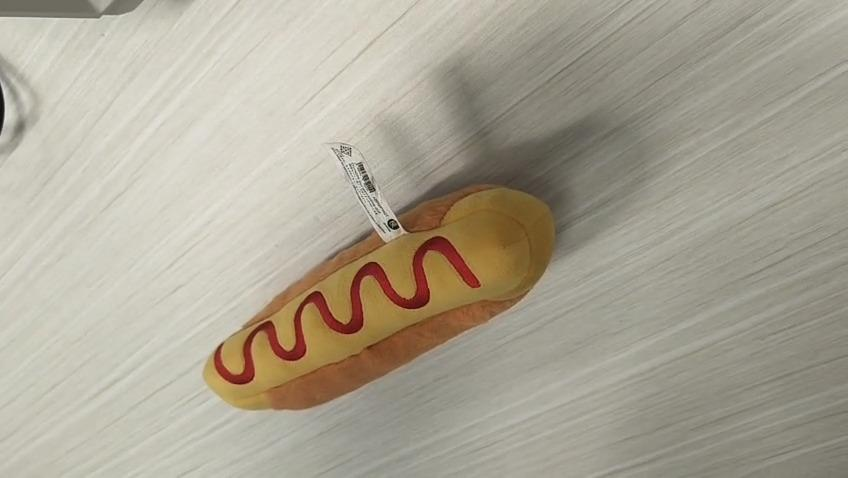hotdog: (201, 180, 556, 411)
